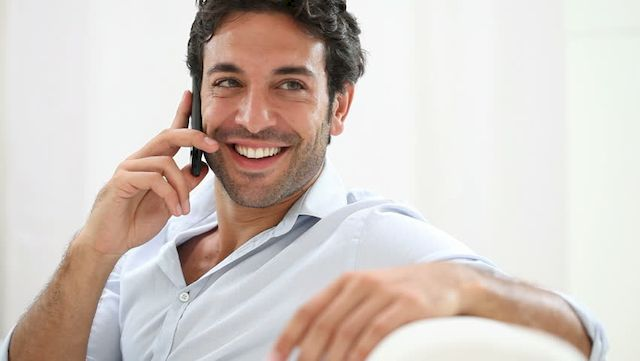phone: (184, 69, 211, 189)
talk: (103, 57, 330, 245)
